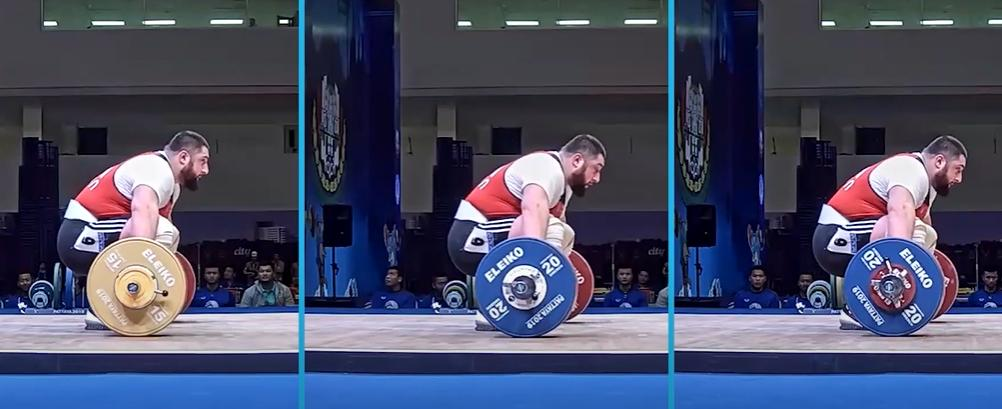Barbell: (866, 255, 923, 320), (494, 256, 554, 314), (108, 260, 160, 315)
